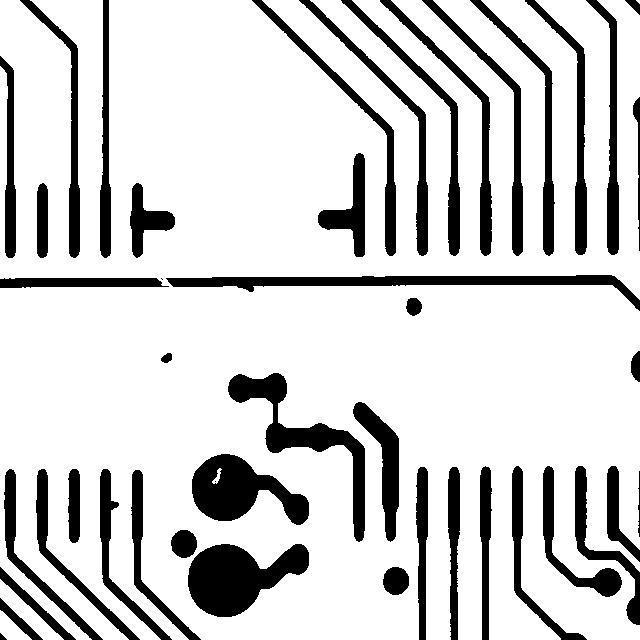copper: (151, 343, 181, 372)
open: (147, 265, 186, 301)
pin-hole: (202, 458, 231, 493)
short: (262, 389, 288, 436)
spur: (227, 271, 263, 301), (99, 491, 128, 519)
